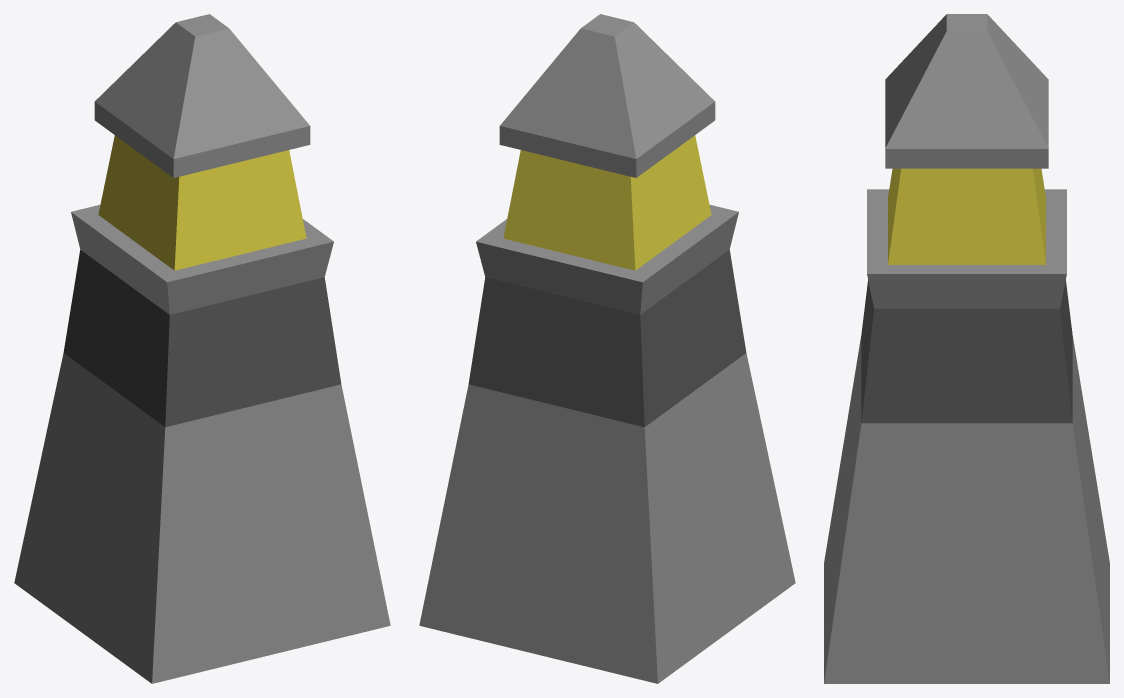
Rendered from SM_TilePlayerTower2.fbx.
The picture shows the model from 3 angles, left to right: view 1: azimuth 30°, elevation 25°; view 2: azimuth 150°, elevation 25°; view 3: azimuth 270°, elevation 25°; orthographic projection. The views are drawn at different scales.
Parts seen in each view (by area): view 1: TilePlayerTower2; view 2: TilePlayerTower2; view 3: TilePlayerTower2.
Boxes of the visible parts, x1,y1,x2,y2 form: TilePlayerTower2: (14,14,390,683); TilePlayerTower2: (419,14,795,683); TilePlayerTower2: (824,14,1109,683).
Size of the model in its own units: 96.95 by 225 by 96.95.
